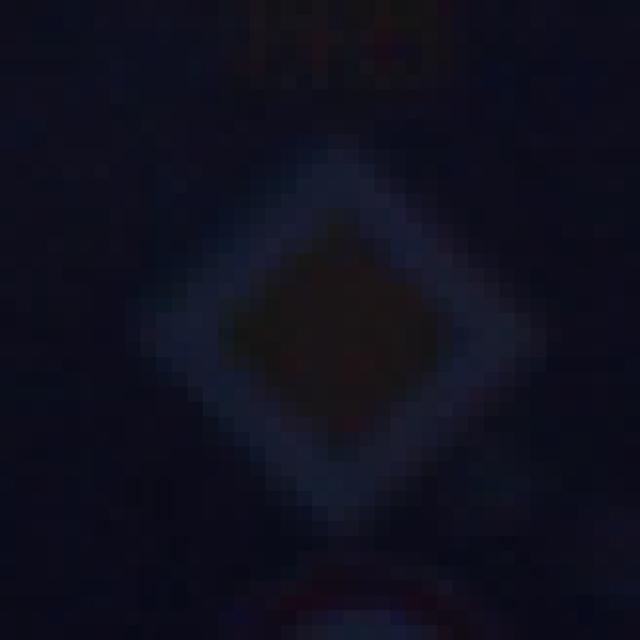Main Road: (95, 90, 563, 567)
